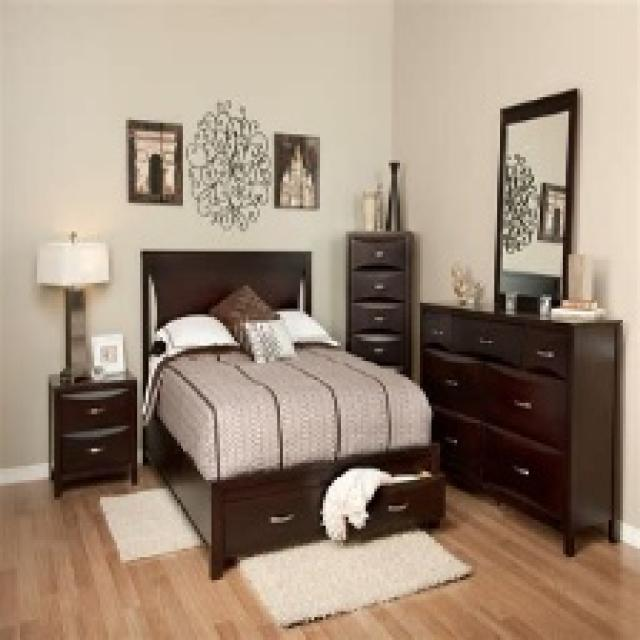Bed: (137, 249, 446, 580)
